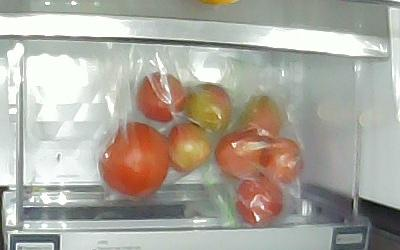tomato_vinyl: (99, 121, 170, 196), (136, 73, 188, 121), (237, 177, 286, 227), (168, 121, 213, 172), (216, 132, 264, 179), (188, 83, 233, 132), (241, 96, 284, 137), (263, 139, 303, 182)
